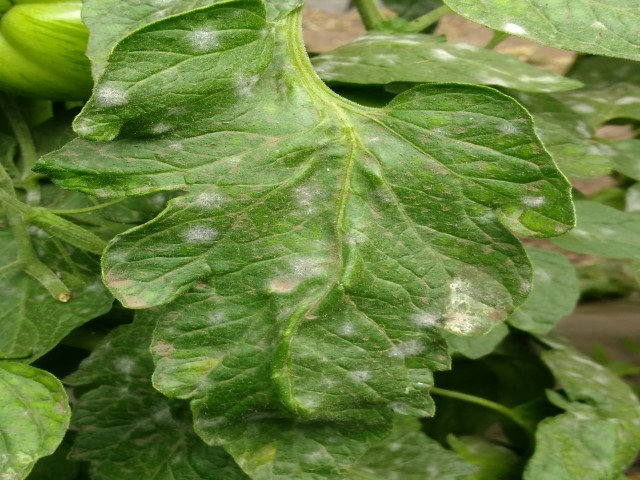oidio: (287, 234, 335, 280), (226, 67, 266, 103), (185, 24, 233, 52), (95, 81, 131, 111), (404, 305, 445, 331), (292, 181, 317, 214), (499, 115, 528, 142), (200, 307, 231, 331), (195, 187, 225, 209), (184, 223, 214, 242), (522, 191, 548, 208), (348, 362, 369, 383), (337, 317, 355, 337)
